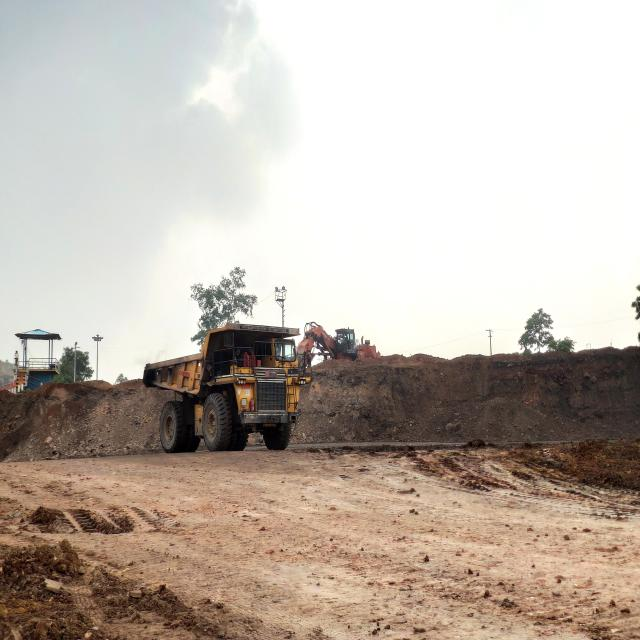dump_truck: (142, 321, 314, 453)
excavator: (327, 327, 371, 359)
